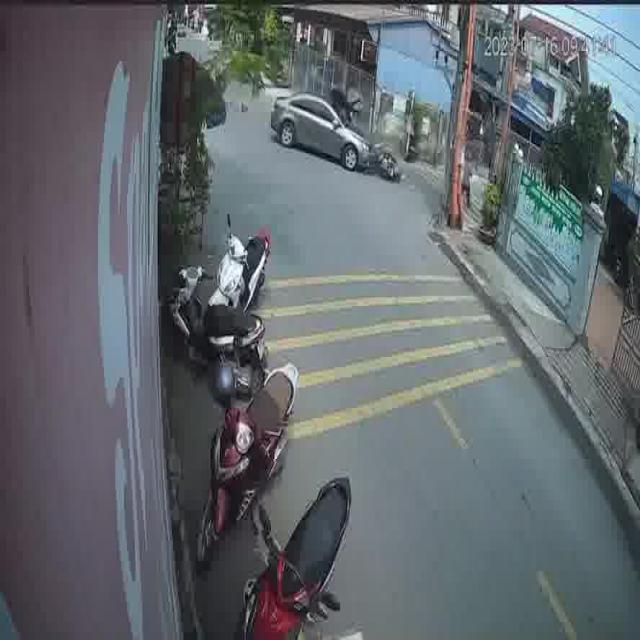multiple_accident: (266, 74, 406, 192)
